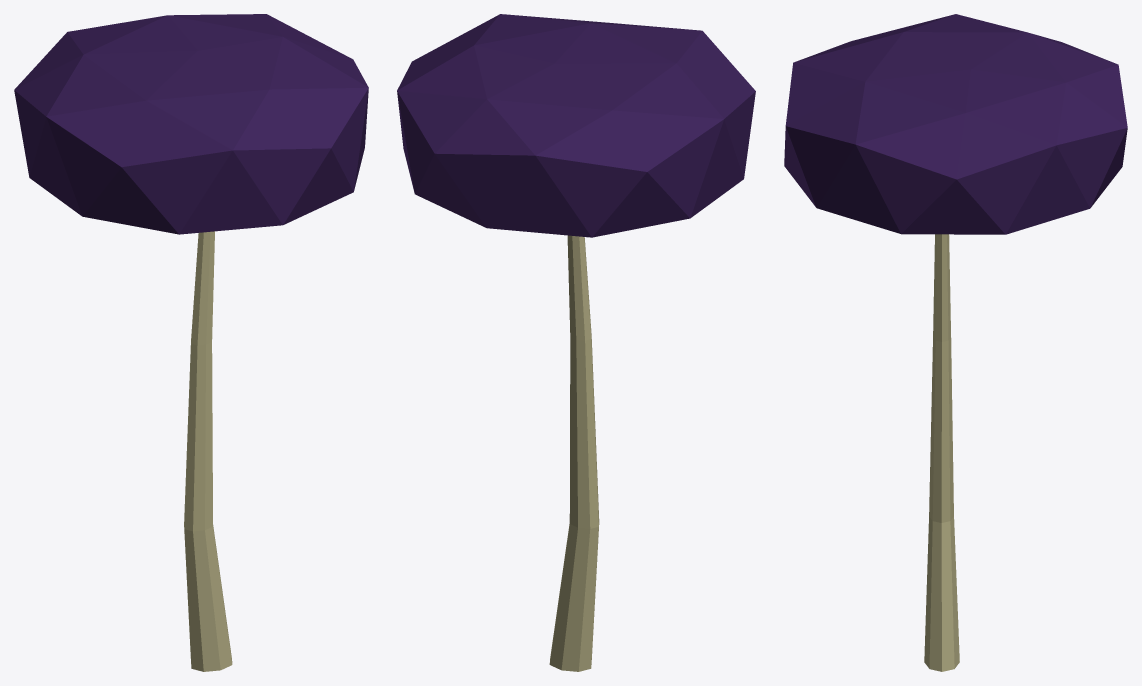
The model's file is flat_mushroom_tall_purple.fbx.
3 renders of one model, left to right at view 1: azimuth 30°, elevation 25°; view 2: azimuth 150°, elevation 25°; view 3: azimuth 270°, elevation 25°, orthographic. The views are drawn at different scales.
Visible parts, largest first — view 1: flat_mushroom_tall_purple; view 2: flat_mushroom_tall_purple; view 3: flat_mushroom_tall_purple.
Boxes of the visible parts, x1,y1,x2,y2 form: flat_mushroom_tall_purple: (14,14,368,671); flat_mushroom_tall_purple: (397,14,755,671); flat_mushroom_tall_purple: (784,14,1127,671).
Size of the model in its own units: 61.03 by 114 by 59.95.
